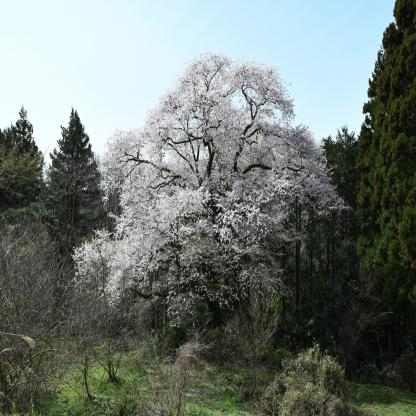EdohiganSakura: (72, 48, 354, 330)
